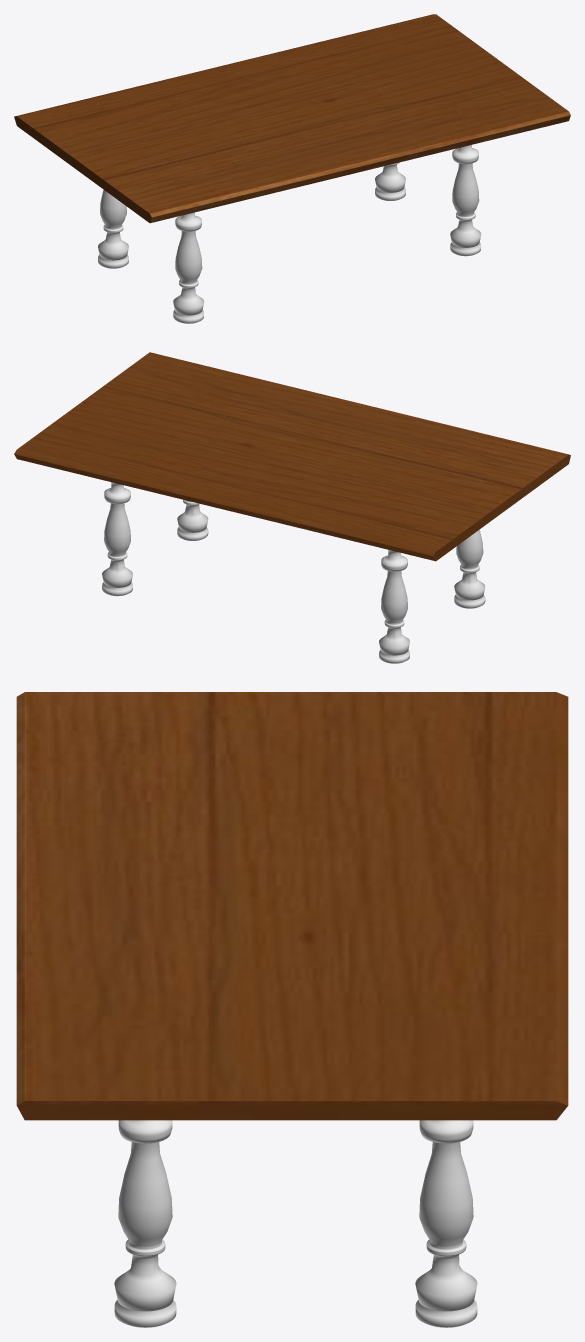
Rendered from mesa.fbx.
3 views of the same model, one above another, from view 1: azimuth 30°, elevation 25°; view 2: azimuth 150°, elevation 25°; view 3: azimuth 270°, elevation 25° (orthographic). The views are drawn at different scales.
Parts seen in each view (by area): view 1: Plane; view 2: Plane; view 3: Plane.
Part boxes in pixels (x1,y1,x2,y2): Plane: (14,14,570,323); Plane: (14,352,570,663); Plane: (16,692,568,1327).
Bounding box in the file's own units: 893 × 293 × 509.
Materials: 3 (1 with a texture image).
